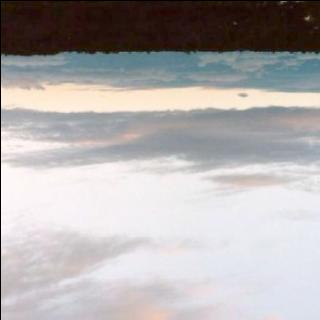Stratus: (0, 56, 320, 320)
